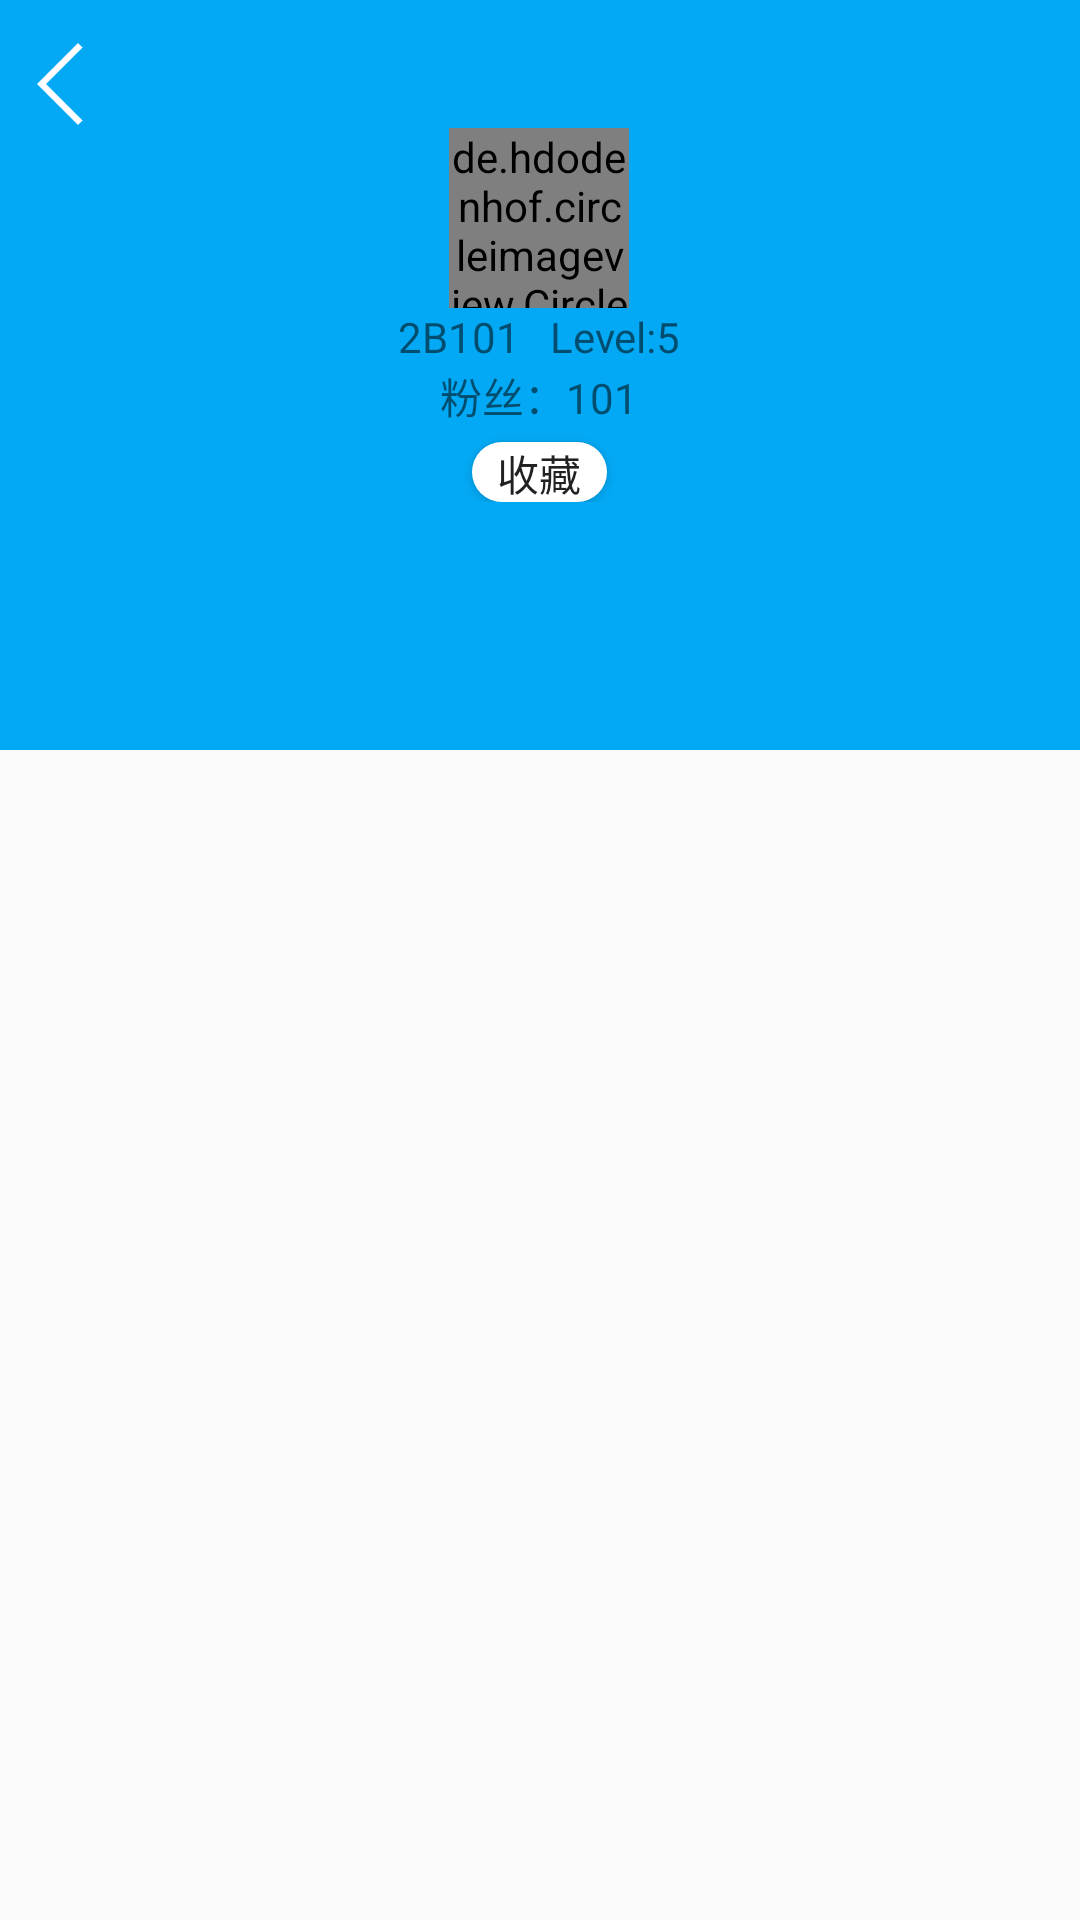

Point at icon controls on the screen. Image size 1080px x 1920px, points as (x=x, y=y).
back: (x=60, y=84)
